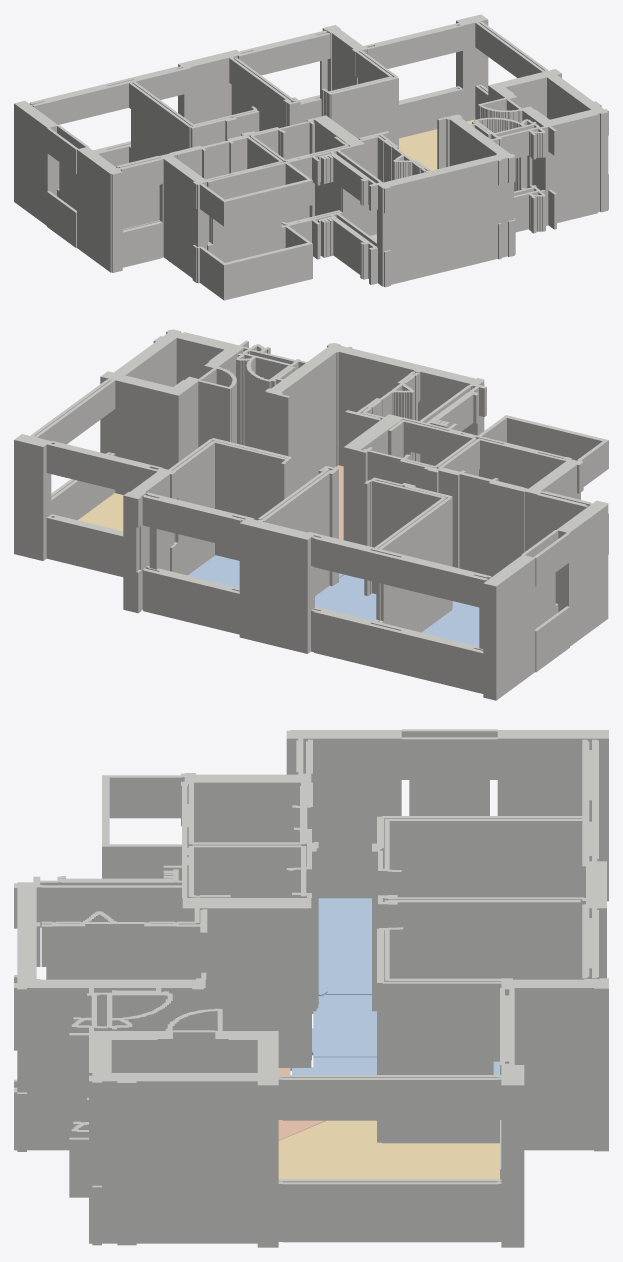
3 renders of one model, top to bottom at view 1: azimuth 30°, elevation 25°; view 2: azimuth 150°, elevation 25°; view 3: azimuth 270°, elevation 25°, orthographic. The views are drawn at different scales.
Parts seen in each view (by area): view 1: walls, room:living:2; view 2: walls, room:bedroom:0, room:bedroom:9, room:bedroom:1, room:living:2; view 3: walls, room:living:2, room:bedroom:9, room:bedroom:0, room:bedroom:1.
Part boxes in pixels (x1,y1,x2,y2): walls: (14, 14, 608, 300); room:living:2: (399, 119, 475, 170); walls: (14, 329, 608, 700); room:bedroom:0: (315, 574, 376, 620); room:bedroom:9: (422, 601, 479, 646); room:bedroom:1: (188, 555, 343, 587); room:living:2: (78, 493, 123, 531); walls: (14, 729, 608, 1247); room:living:2: (278, 1120, 499, 1179); room:bedroom:9: (318, 898, 371, 996); room:bedroom:0: (312, 995, 376, 1057); room:bedroom:1: (292, 1057, 499, 1074).
Size of the model in its own units: 13.16 by 2.8 by 9.29.
